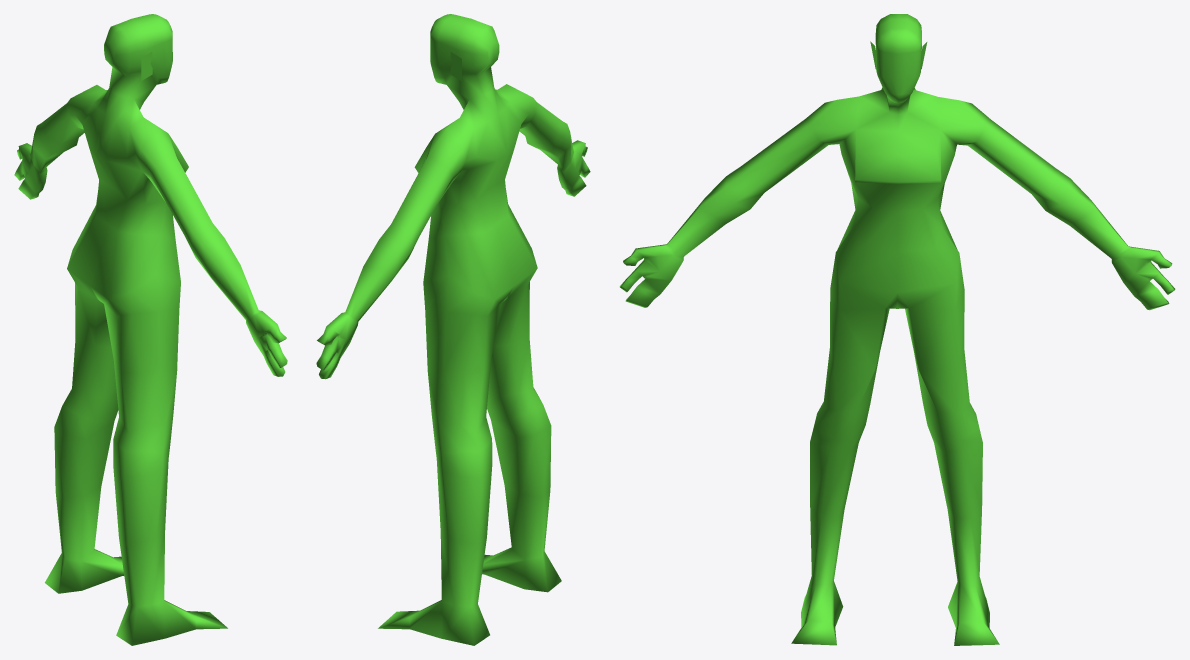
File: HumanReference.fbx
3 views of the same model, side by side, from view 1: azimuth 30°, elevation 25°; view 2: azimuth 150°, elevation 25°; view 3: azimuth 270°, elevation 25° (orthographic). The views are drawn at different scales.
Parts seen in each view (by area): view 1: 0_MainCharacter; view 2: 0_MainCharacter; view 3: 0_MainCharacter.
Part boxes in pixels (left/top/right/bottom): 0_MainCharacter: left=14, top=14, right=287, bottom=645; 0_MainCharacter: left=316, top=14, right=590, bottom=645; 0_MainCharacter: left=619, top=14, right=1175, bottom=645.
Size of the model in its own units: 29.62 by 174 by 145.
